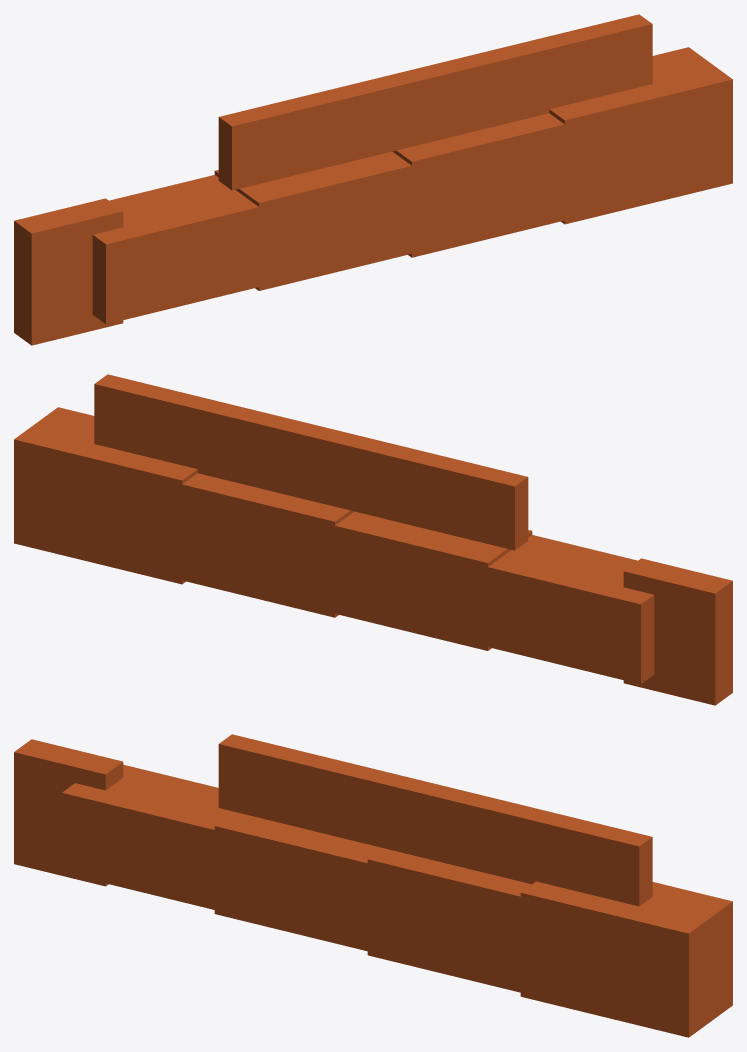
The model's file is fish_lava_eel.glb.
3 renders of one model, top to bottom at view 1: azimuth 30°, elevation 25°; view 2: azimuth 150°, elevation 25°; view 3: azimuth 330°, elevation 25°, orthographic.
Visible parts, largest first — view 1: species.lava_eel; view 2: species.lava_eel; view 3: species.lava_eel.
Boxes of the visible parts, box(x1,y1,x2,y2) form: species.lava_eel: box(14, 14, 732, 345); species.lava_eel: box(14, 374, 732, 705); species.lava_eel: box(14, 734, 732, 1037).
Bounding box in the file's own units: 0.3 × 0.07 × 0.0333.
